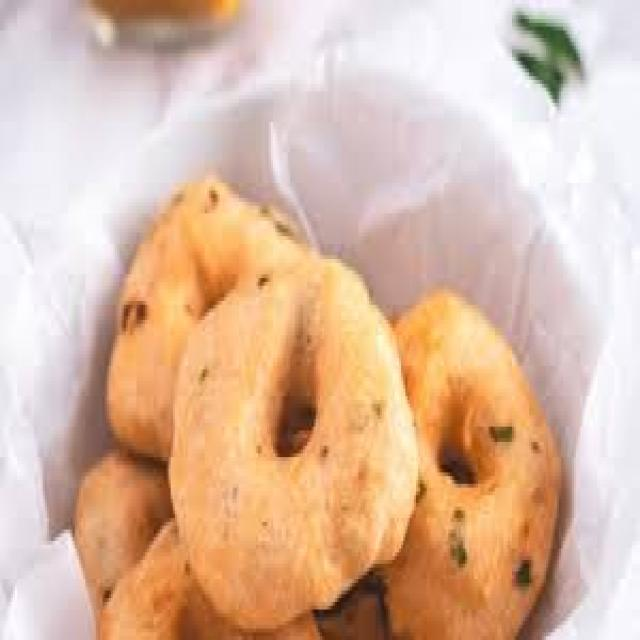MEDU VADA: (169, 183, 418, 629), (382, 290, 559, 636)
